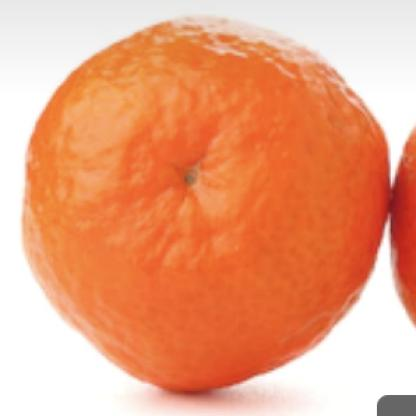fresh: (21, 17, 392, 394)
